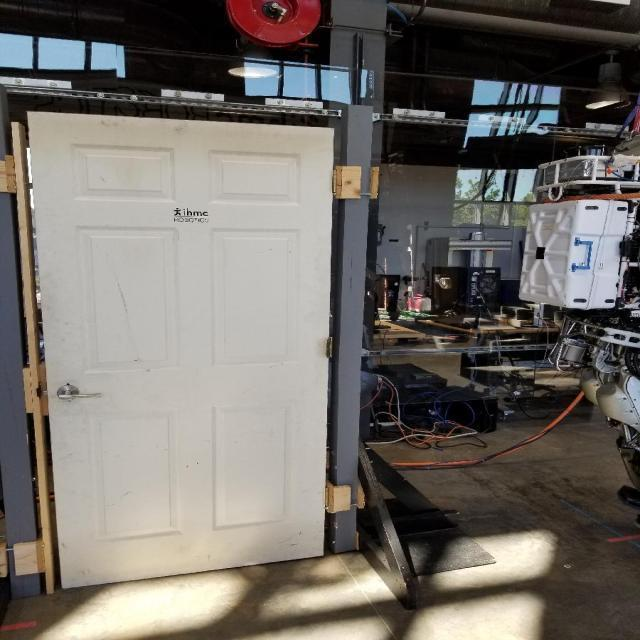door: (19, 105, 340, 600), (46, 374, 110, 408)
